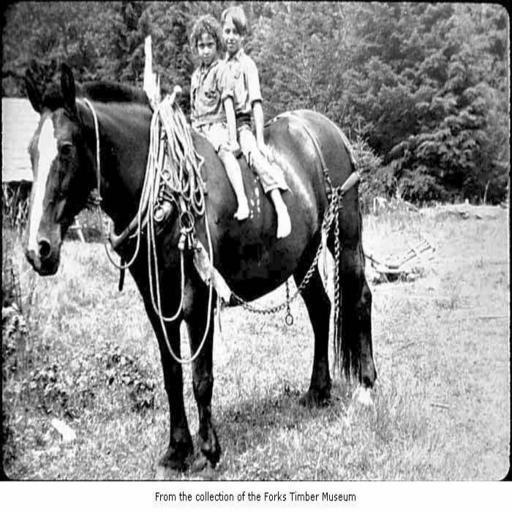horse: (24, 62, 377, 482)
